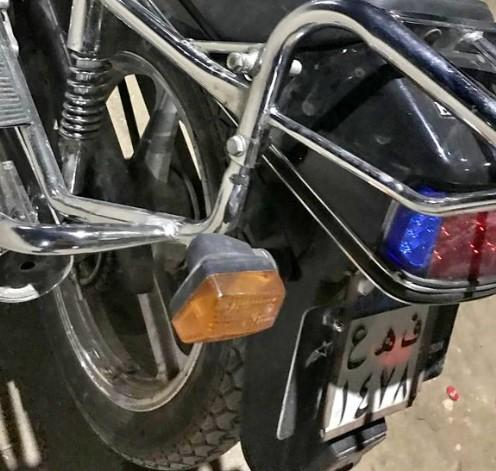License Plate: (325, 291, 435, 429)
